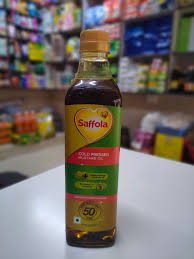saffola: (65, 30, 121, 246)
